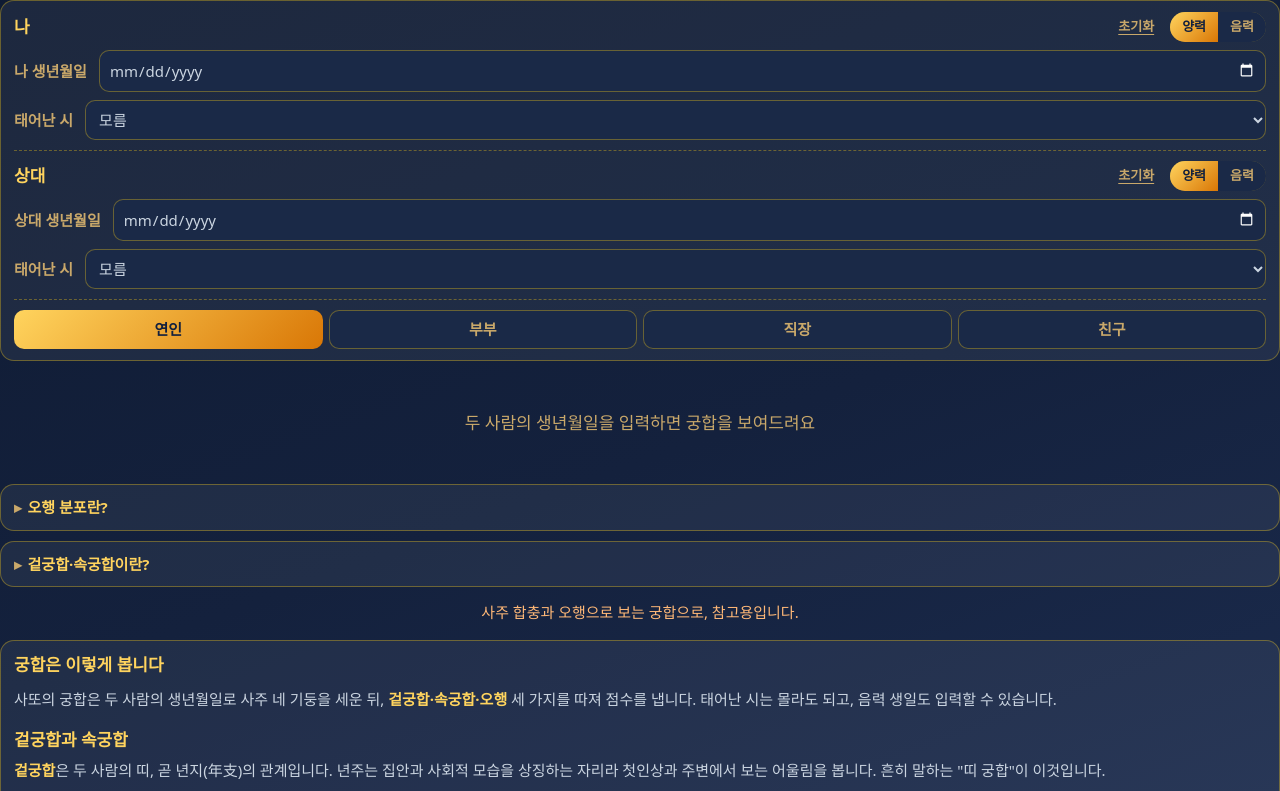
Test: 초기화 버튼이 해당 입력을 비우고 결과를 닫는다
The width and height of the screenshot is (1280, 791).
Type "2020-06-01" into the date field labelled "나 생년월일". click: (682, 71)
box: top-left (99, 50), bottom-right (1266, 92)
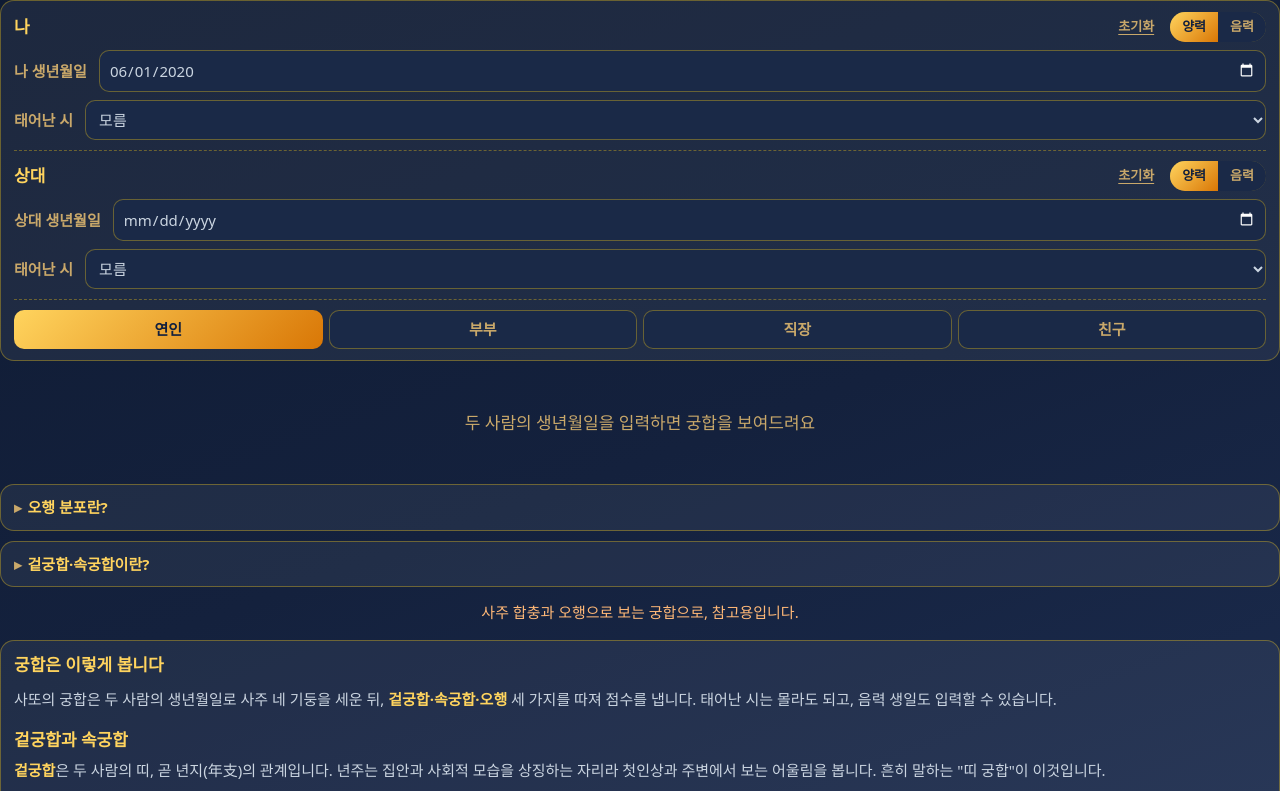
Type "2016-06-01" into the date field labelled "상대 생년월일". click: (689, 220)
box: top-left (113, 198), bottom-right (1266, 241)
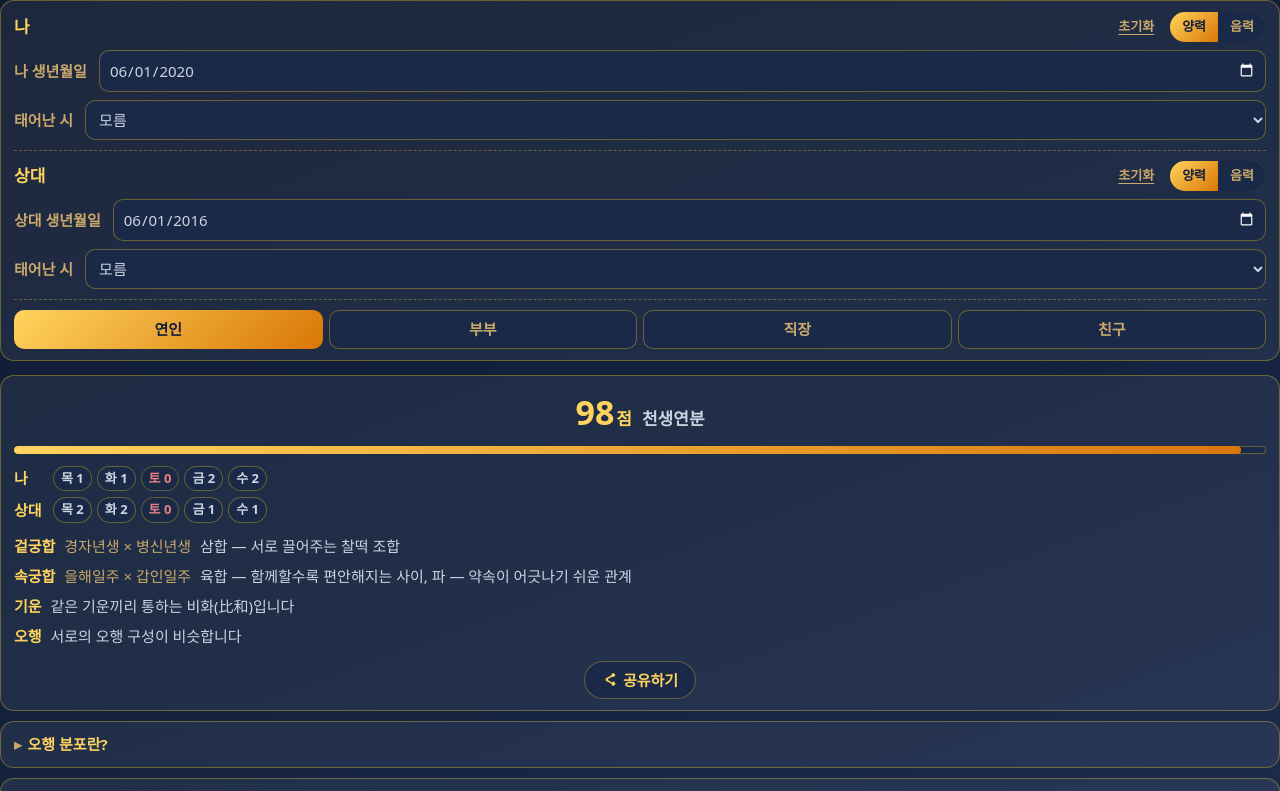
Now the element with class "gunghap-result" is shown, box top-left (0, 374), bottom-right (1279, 711)
Click the button with aria-label "나 입력 초기화". click: click(1136, 27)
box: top-left (1110, 13), bottom-right (1162, 40)
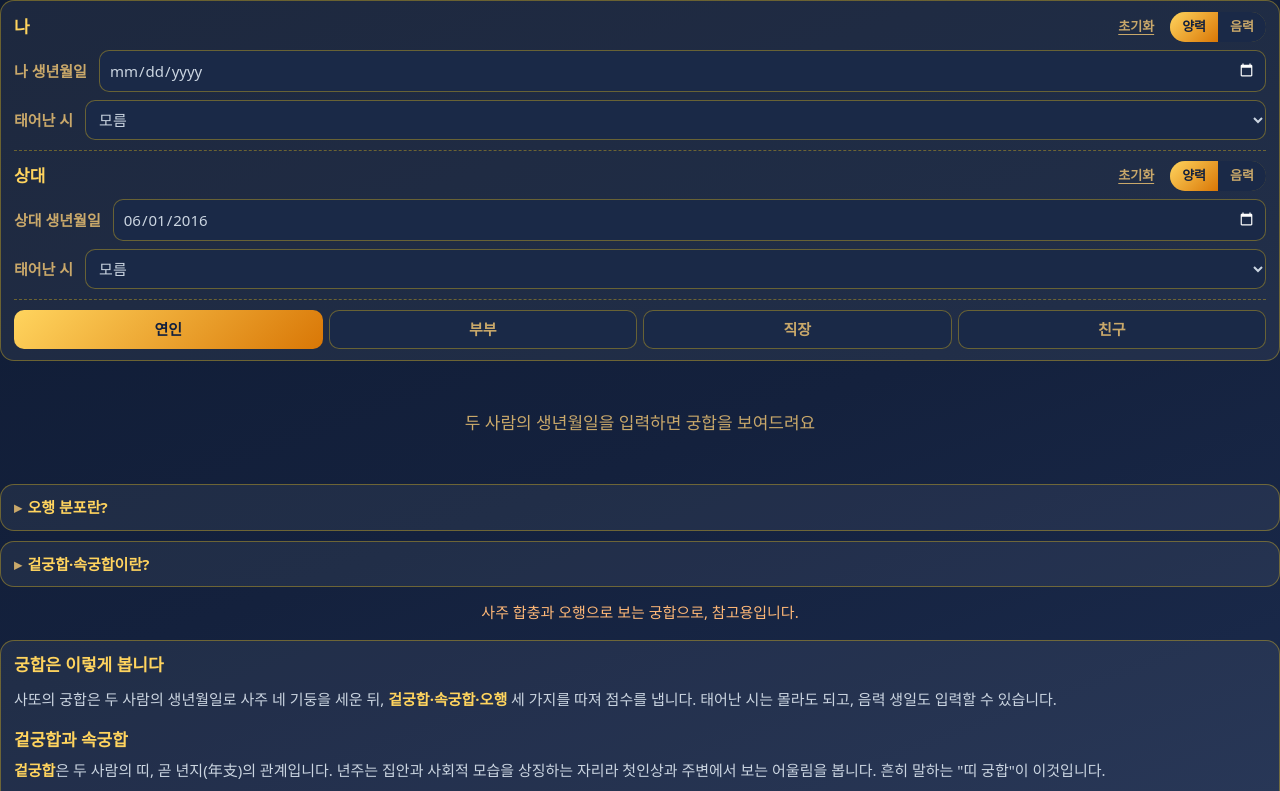
Now the date field labelled "나 생년월일" is empty, box top-left (99, 50), bottom-right (1266, 92)
Now the element with class "gunghap-result" is gone
